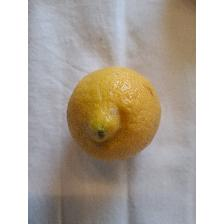Zitrone: (55, 55, 168, 169)
